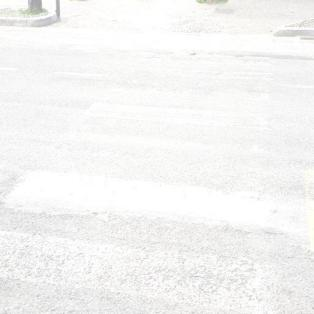Paso de Cebra: (6, 122, 279, 234)
